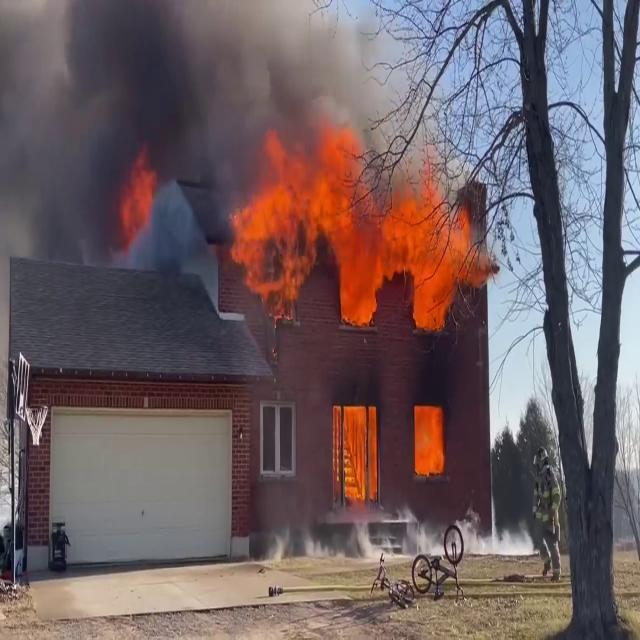Fire: (230, 122, 482, 324), (116, 144, 161, 251), (332, 403, 378, 499)
Smoke: (0, 0, 377, 224)
